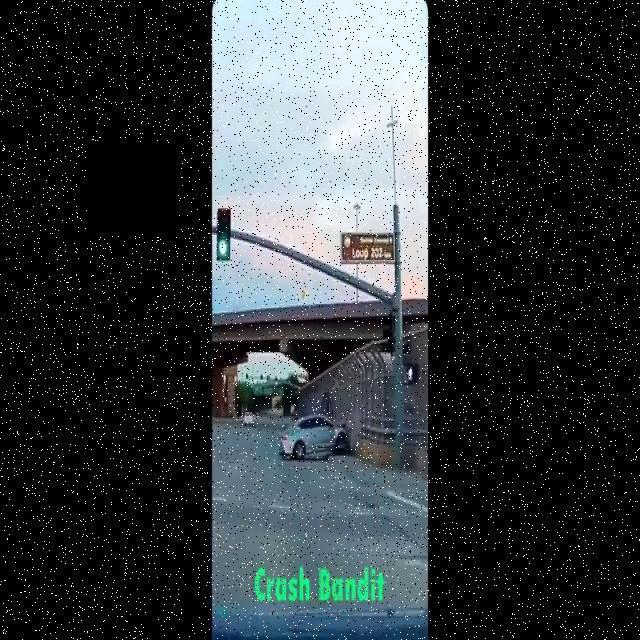single accident: (260, 396, 387, 480)
